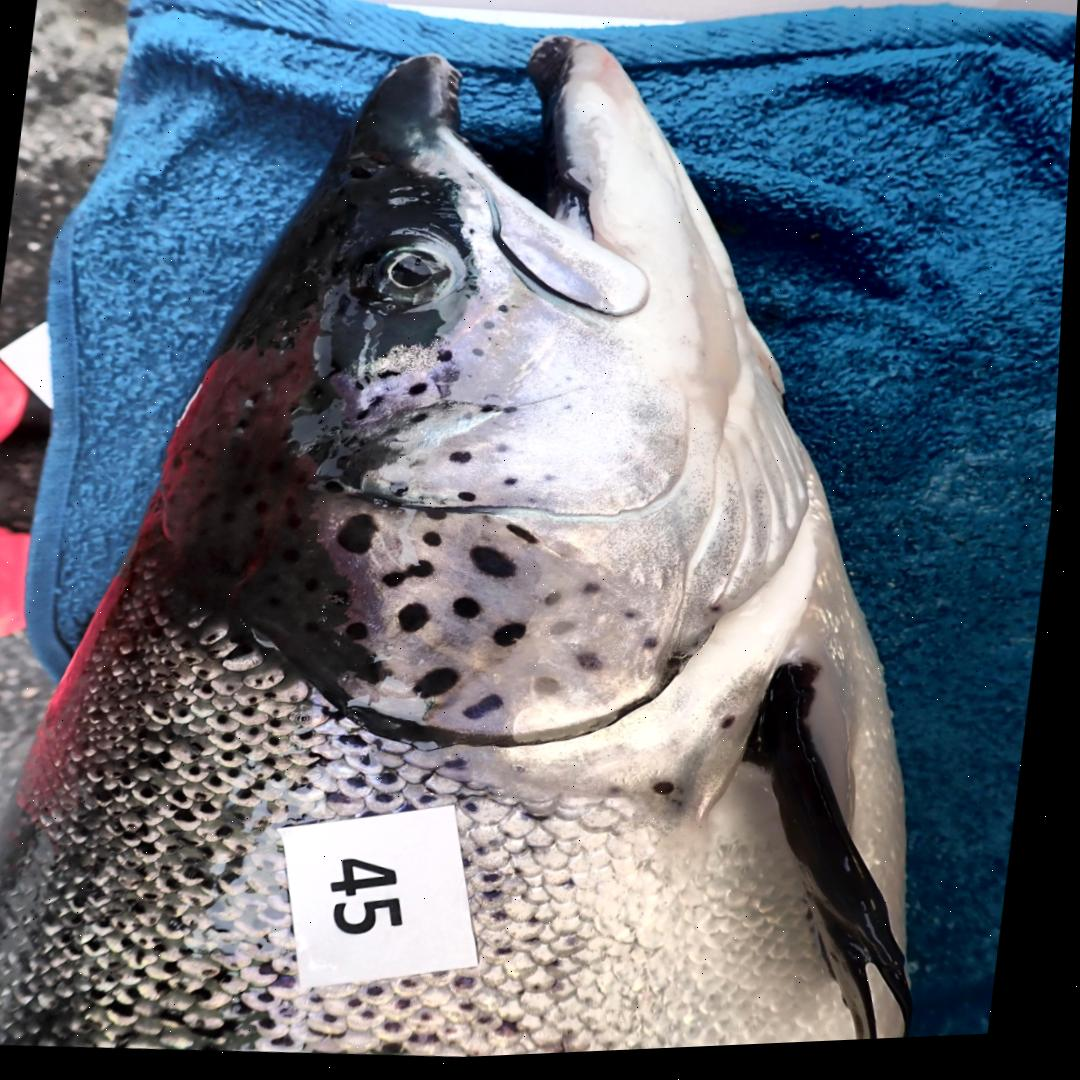spot: (343, 518, 384, 558), (475, 552, 523, 583), (420, 672, 467, 703), (387, 565, 439, 592), (471, 699, 511, 724), (405, 607, 437, 637), (359, 658, 391, 688), (499, 628, 534, 653), (511, 529, 544, 550), (361, 399, 387, 424), (460, 602, 488, 624), (541, 682, 570, 702), (584, 658, 609, 677), (353, 626, 375, 644), (557, 626, 583, 641), (428, 535, 448, 550), (411, 386, 431, 401), (428, 512, 451, 525), (454, 455, 477, 468), (412, 416, 433, 430), (394, 486, 413, 501), (551, 597, 569, 612), (330, 484, 349, 497), (588, 588, 606, 601), (378, 374, 404, 383), (650, 643, 668, 656), (358, 380, 374, 393), (463, 496, 481, 507), (485, 324, 500, 335), (441, 355, 456, 366), (631, 617, 648, 626), (508, 483, 522, 491), (548, 479, 562, 487), (485, 410, 500, 417), (507, 412, 521, 419), (475, 354, 487, 361), (501, 309, 511, 317), (500, 449, 510, 457)
